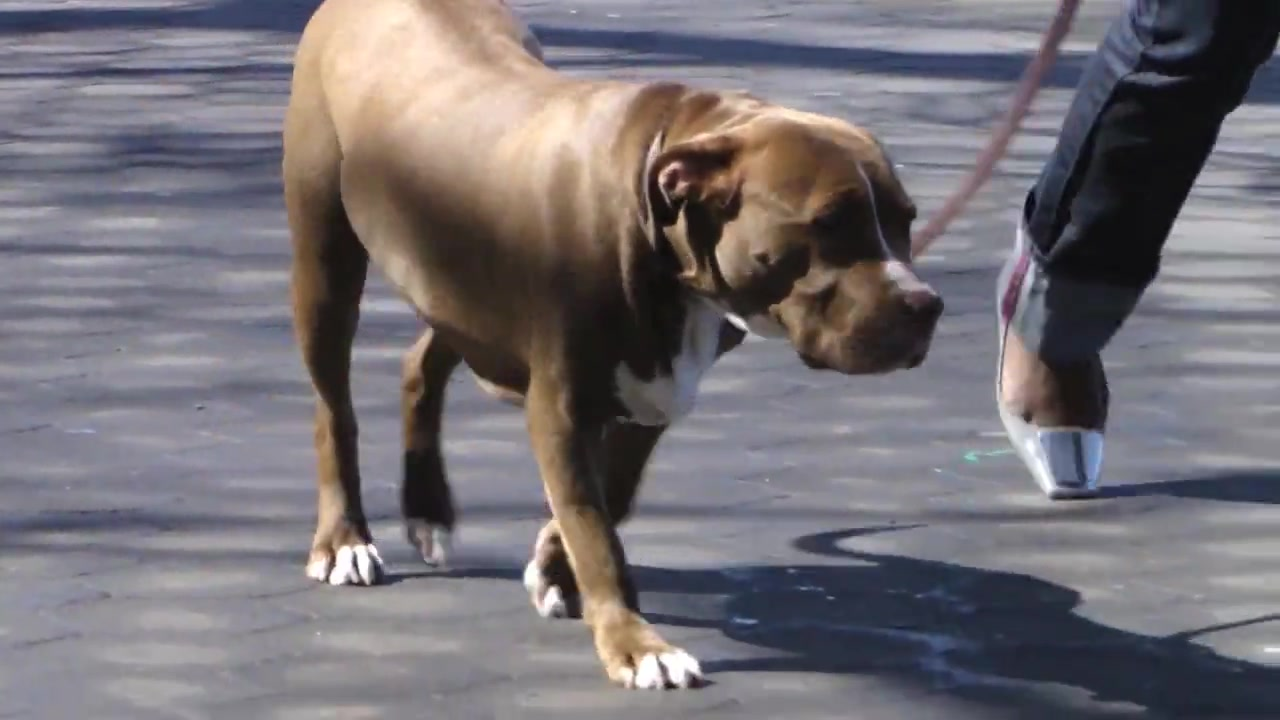dog: (282, 1, 948, 696)
